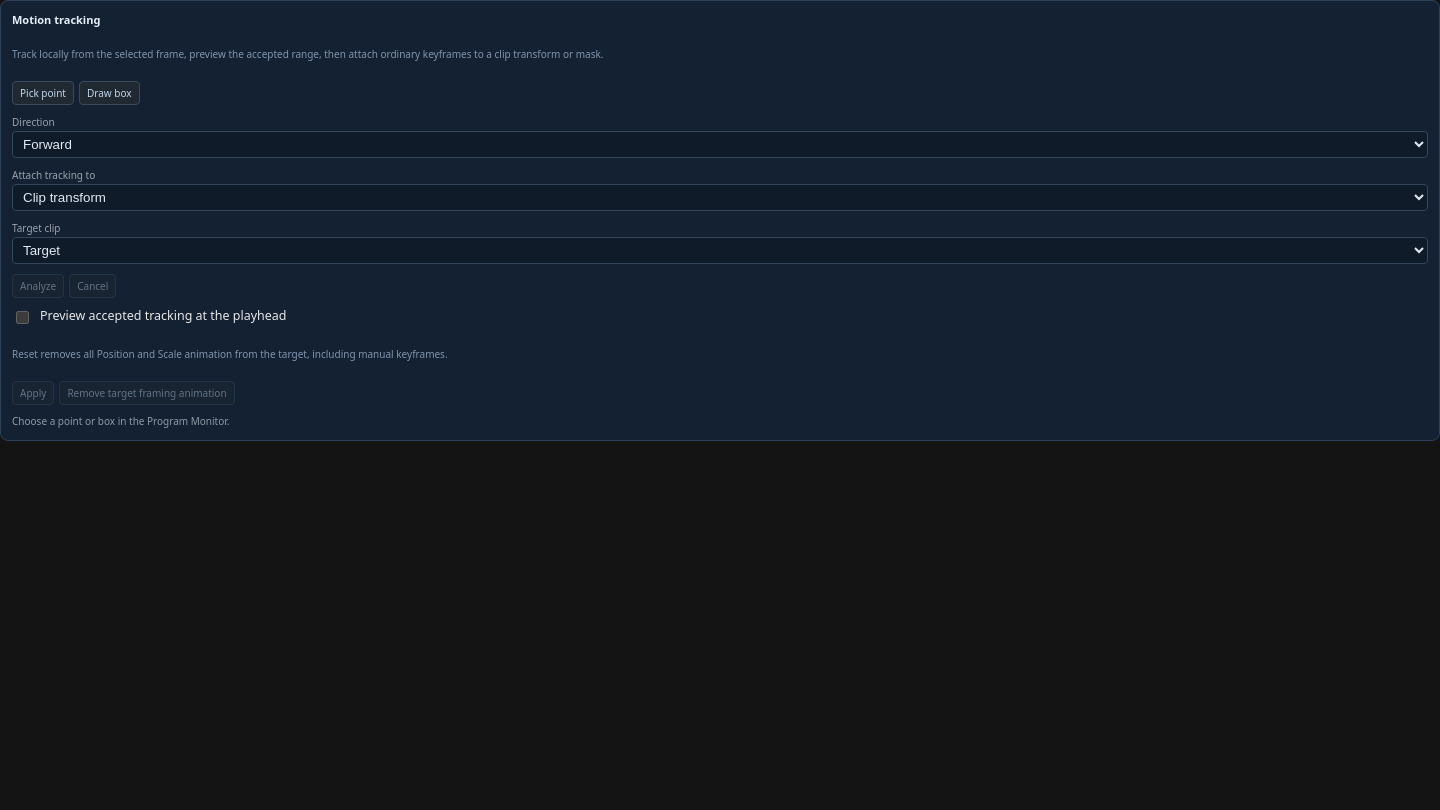
Test: source masks are offered separately from forbidden source transforms, with actual preview, one Apply and undo
Expected: the option "Source" is not shown
Select "Mask effect" in the dropdown labelled "Attach tracking to" at (720, 198), box [12,184,1428,211]
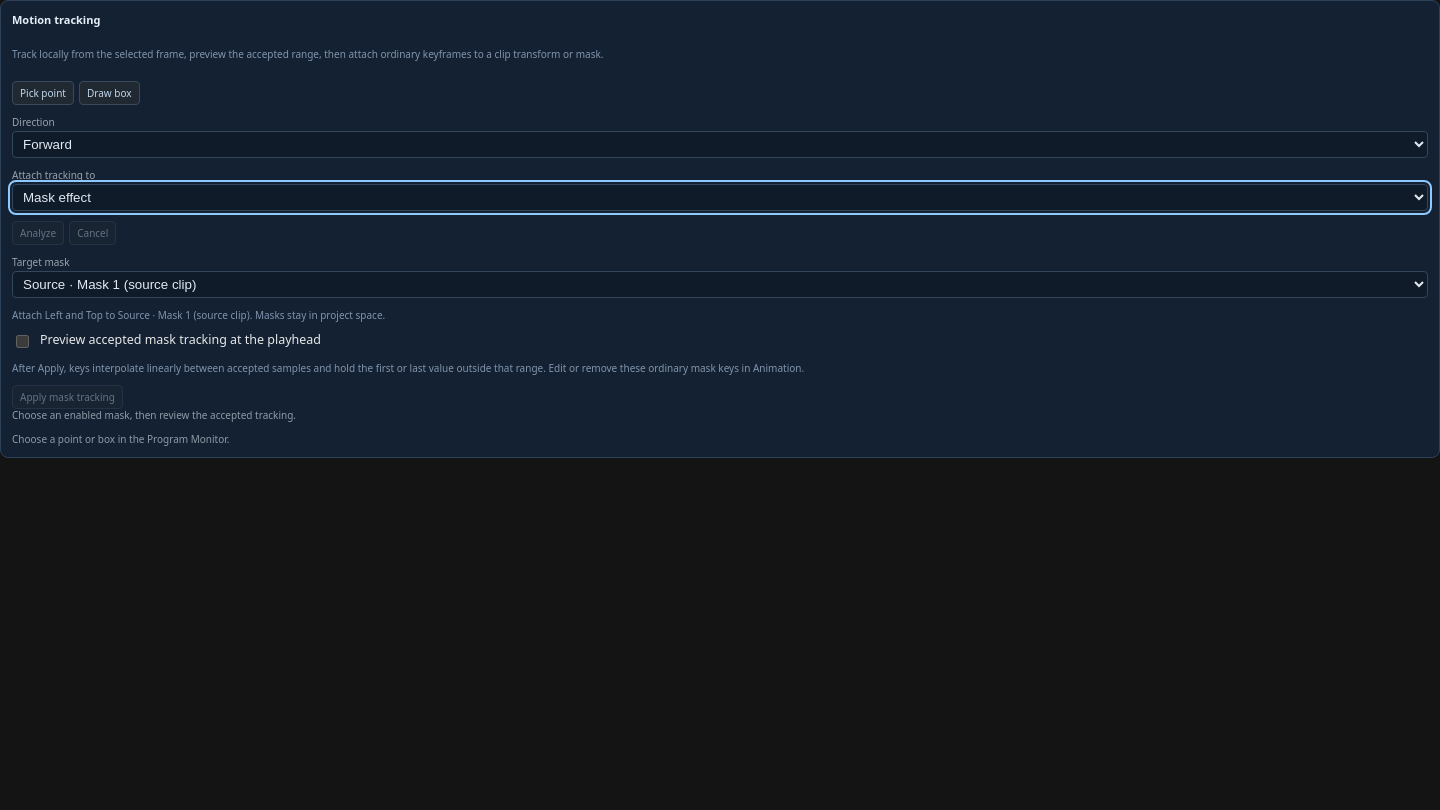
Click the button "Pick point".
click(43, 93)  # box [12,81,74,105]
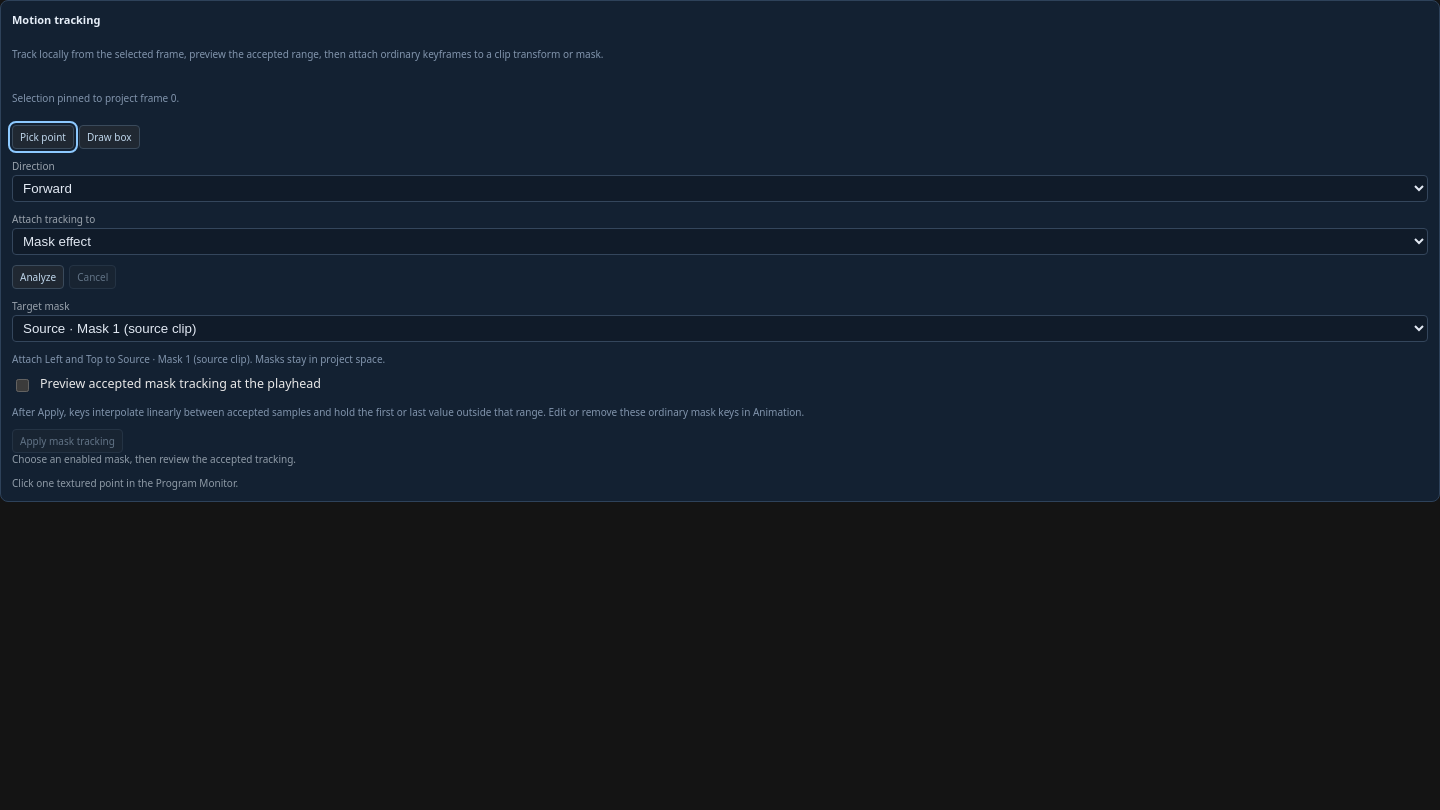
Click the button "Analyze".
click(38, 277)  # box [12,265,64,289]
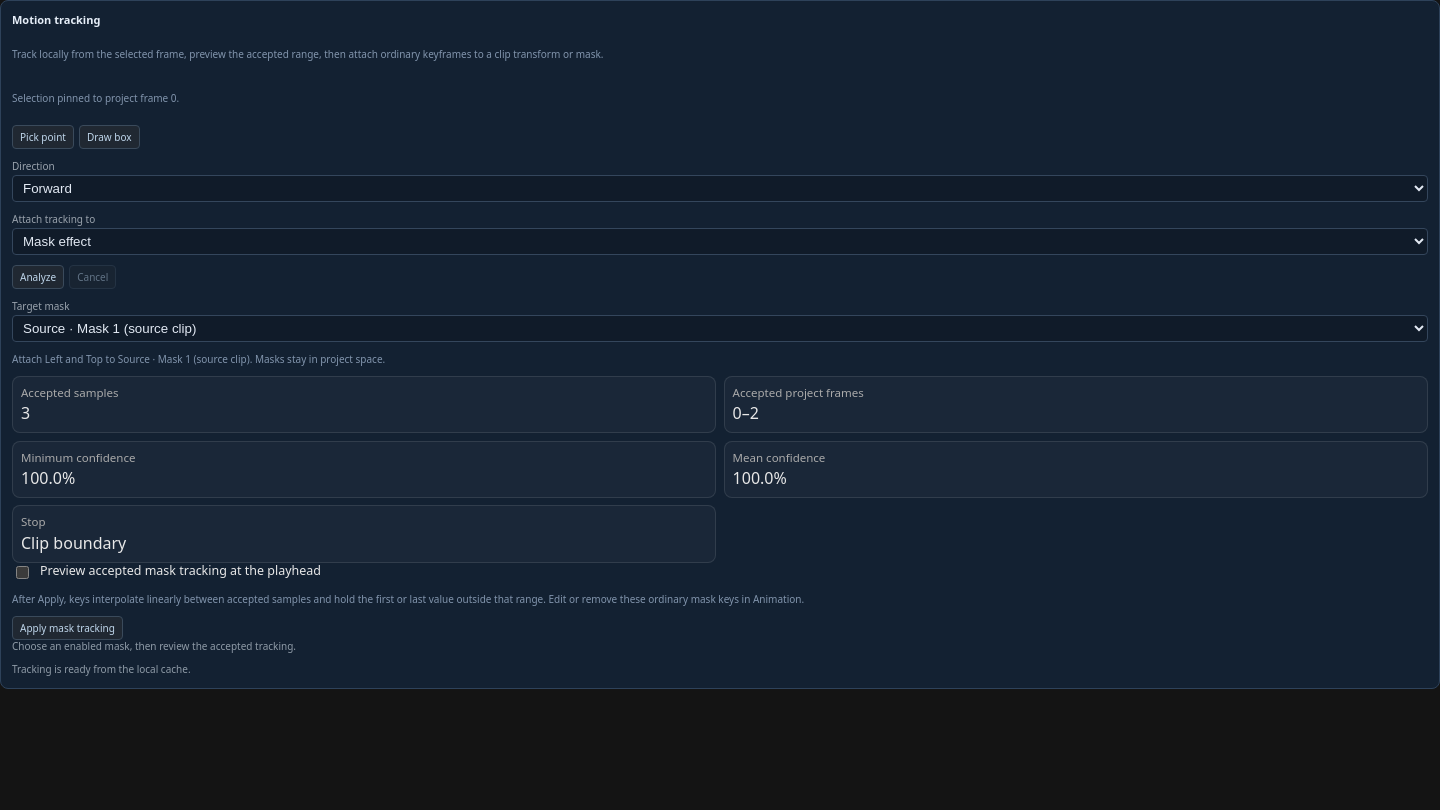
Result: the text "keys interpolate linearly between accepted samples" is shown at [12,592,804,606]
Result: the text "Attach Left and Top to Source" is shown at [12,352,385,366]
Result: the text "Tracking is ready from the local cache." is shown at [12,662,191,676]
Click the checkbox labelled "Preview accepted mask tracking at the playhead".
click(22, 572)  # box [16,566,29,578]
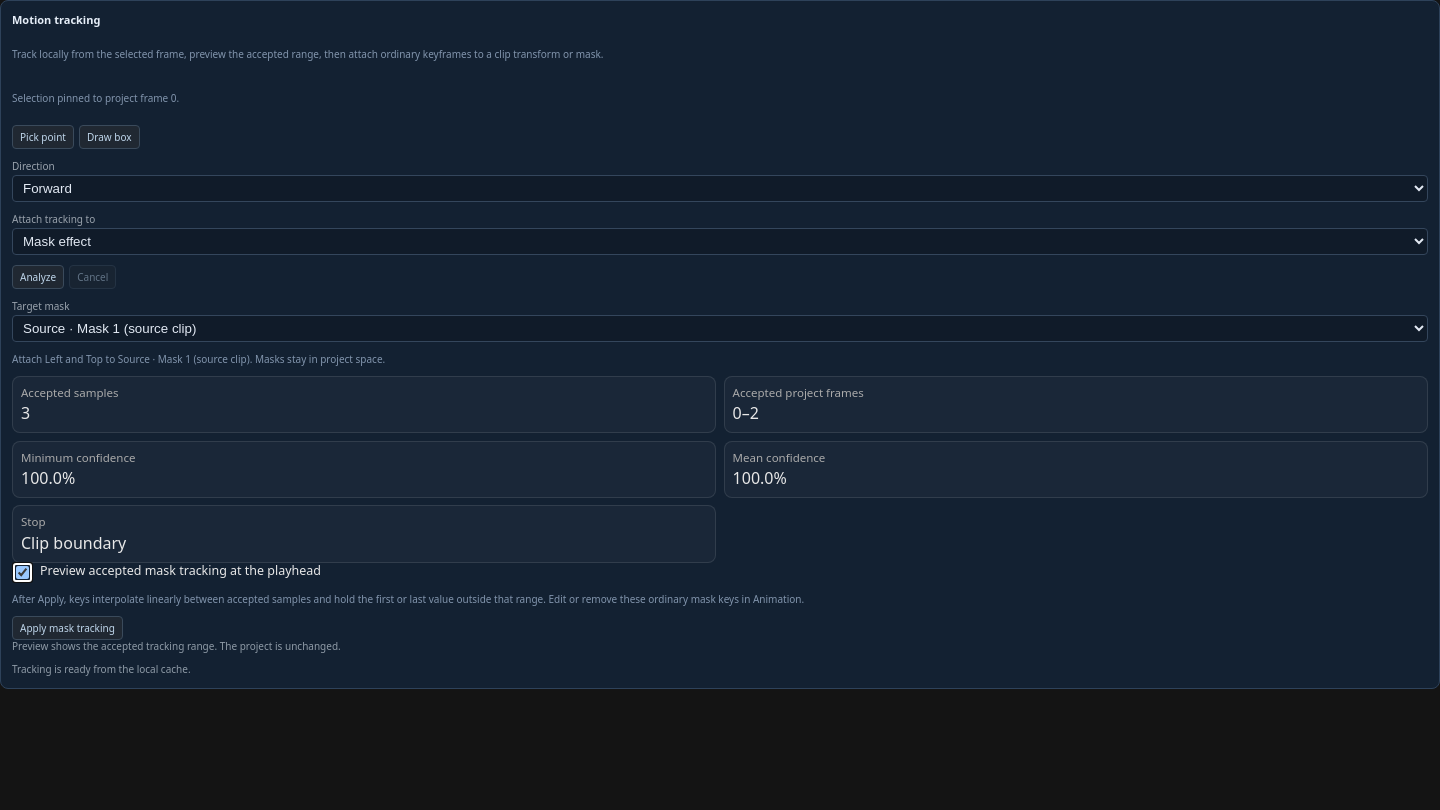
Click the button "Apply mask tracking".
click(67, 628)  # box [12,616,123,640]
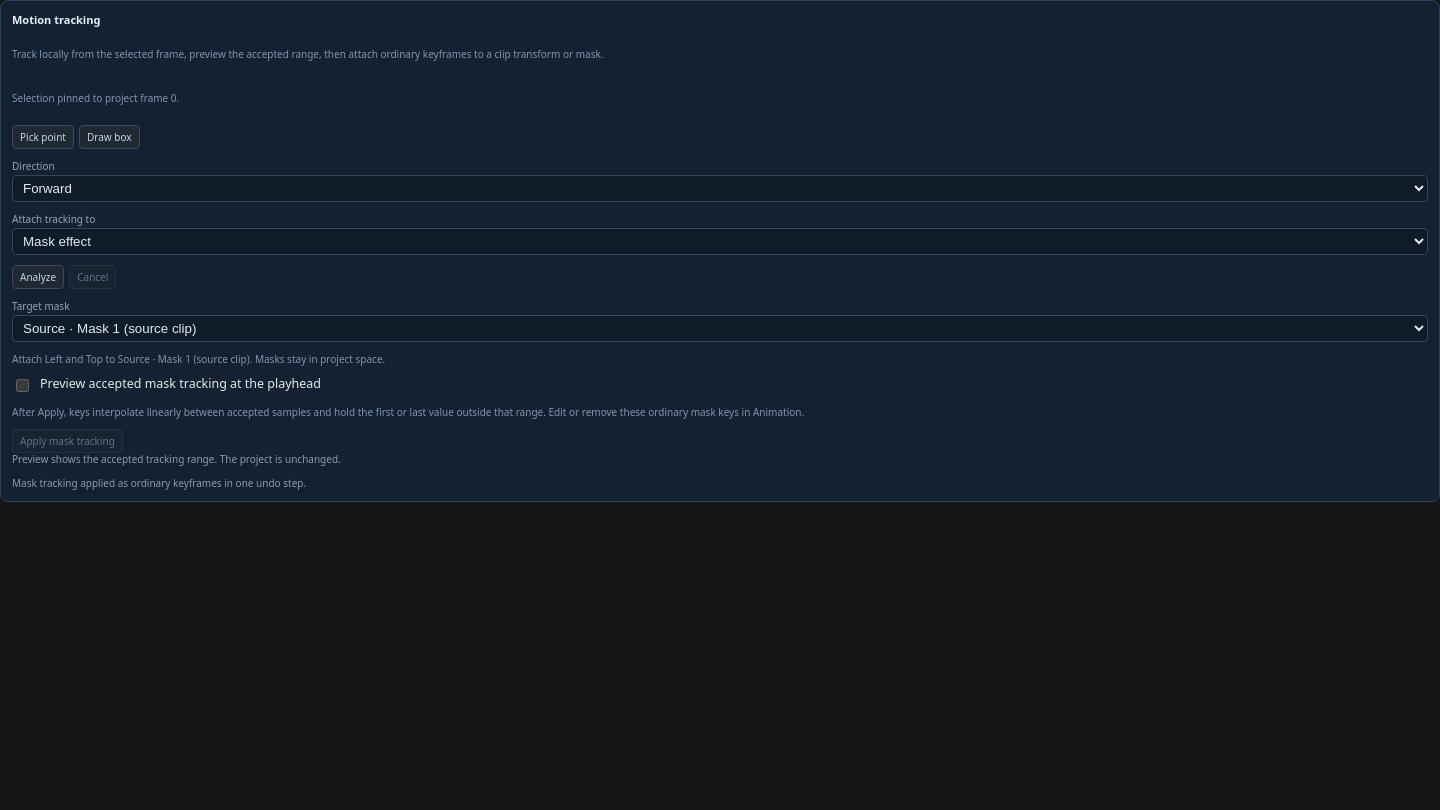
Result: the button "Apply mask tracking" is disabled at [12,429,123,453]
Result: the text "Mask tracking applied as ordinary keyframes in one undo step." is shown at [12,476,306,490]
